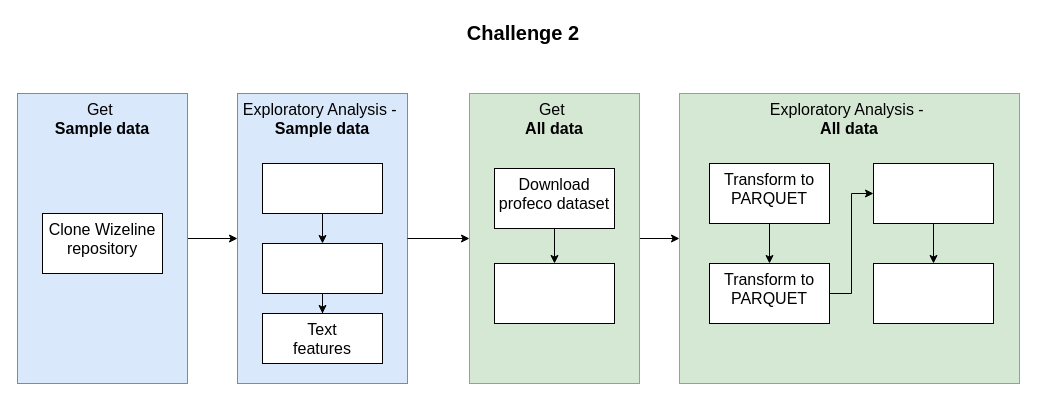
Some shapes in this 1037 by 401 pixel diagram are drawn without their labels. The shapes that lost their labels are listed below. From the top down, each one's centre as x and y in pixels, then its label:
At (322,188): "General information".
At (933,193): "Read with PySpark".
At (322,268): "Numerical features".
At (554,293): "Unzip profeco dataset".
At (933,293): "Query data".
